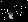person: (7, 7, 15, 19)
